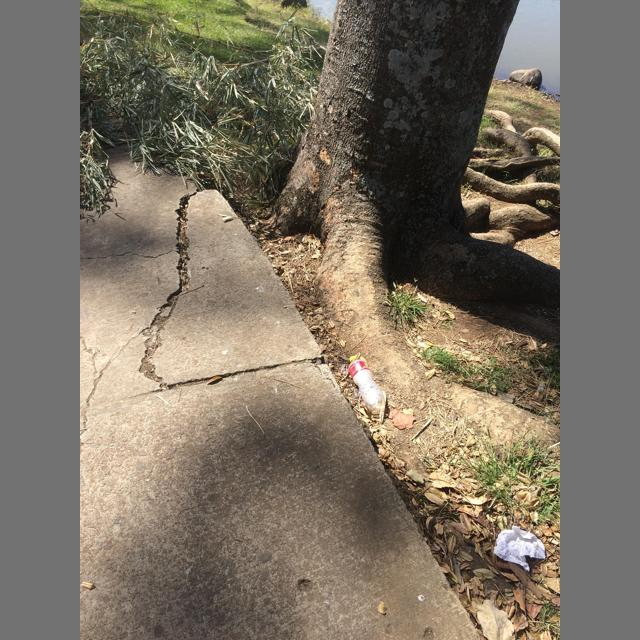litter: (494, 525, 545, 571), (349, 356, 385, 411)
